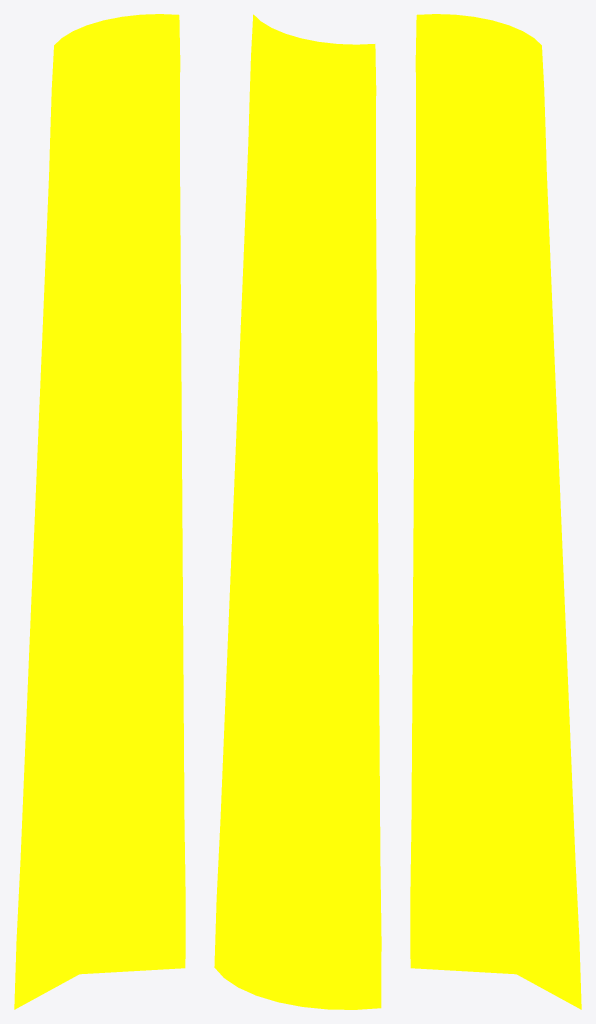
File: inside_phare.fbx
3 renders of one model, left to right at view 1: azimuth 30°, elevation 25°; view 2: azimuth 150°, elevation 25°; view 3: azimuth 330°, elevation 25°, orthographic. The views are drawn at different scales.
Visible parts, largest first — view 1: Inside; view 2: Inside; view 3: Inside.
Part boxes in pixels (x1,y1,x2,y2): Inside: [14, 14, 185, 1009]; Inside: [214, 14, 381, 1009]; Inside: [410, 14, 581, 1009].
Bounding box in the file's own units: 1687 × 9146 × 633.
